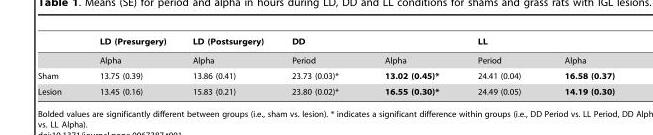table: (37, 36, 614, 95)
table column: (79, 36, 178, 95), (178, 36, 277, 95), (360, 36, 457, 95), (457, 36, 541, 95), (277, 36, 360, 95), (541, 36, 614, 95), (37, 36, 79, 95)
table column header: (37, 36, 614, 67)
table row: (37, 50, 614, 67), (37, 67, 614, 83), (37, 36, 614, 50), (37, 83, 614, 95)
table spanning cell: (79, 36, 178, 67), (178, 36, 277, 67), (277, 36, 457, 50), (457, 36, 614, 50)
